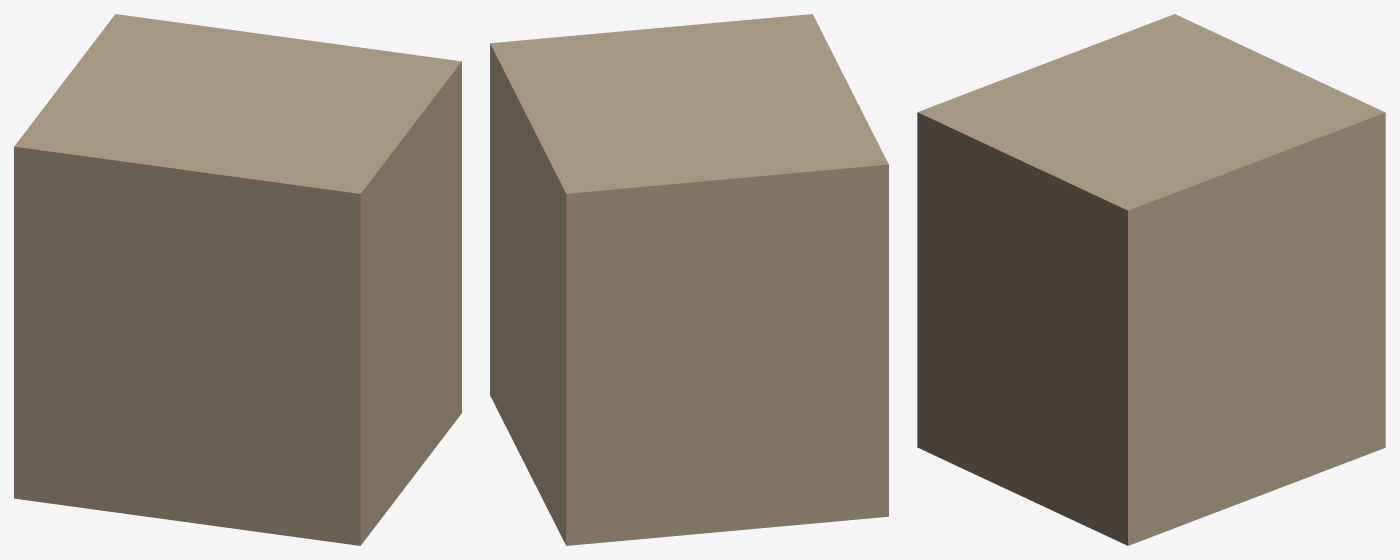
The model's file is bld_101979787.dae.
3 views of the same model, side by side, from view 1: azimuth 30°, elevation 25°; view 2: azimuth 150°, elevation 25°; view 3: azimuth 270°, elevation 25° (orthographic). The views are drawn at different scales.
Parts seen in each view (by area): view 1: bld_101979787; view 2: bld_101979787; view 3: bld_101979787.
Part boxes in pixels (x1,y1,x2,y2): bld_101979787: [14, 14, 461, 545]; bld_101979787: [490, 14, 888, 545]; bld_101979787: [917, 14, 1385, 545].
Bounding box in the file's own units: 10.06 × 10.12 × 8.
